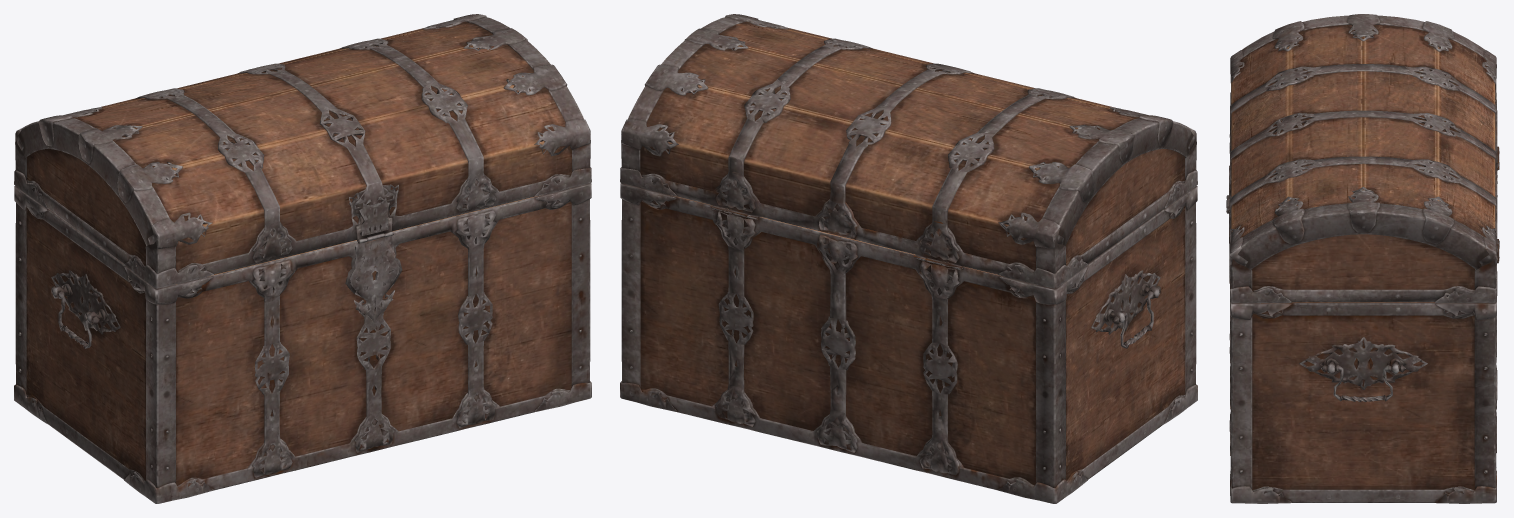
File: treasure_chest.glb
3 views of the same model, side by side, from view 1: azimuth 30°, elevation 25°; view 2: azimuth 150°, elevation 25°; view 3: azimuth 270°, elevation 25° (orthographic). The views are drawn at different scales.
Parts seen in each view (by area): view 1: treasure_chest; view 2: treasure_chest; view 3: treasure_chest.
Part boxes in pixels (<box>): treasure_chest: <box>14,14,591,503</box>; treasure_chest: <box>620,14,1197,503</box>; treasure_chest: <box>1226,14,1499,503</box>.
Size of the model in its own units: 0.959 by 0.6185 by 0.5222.
1 material, 1 textured.
